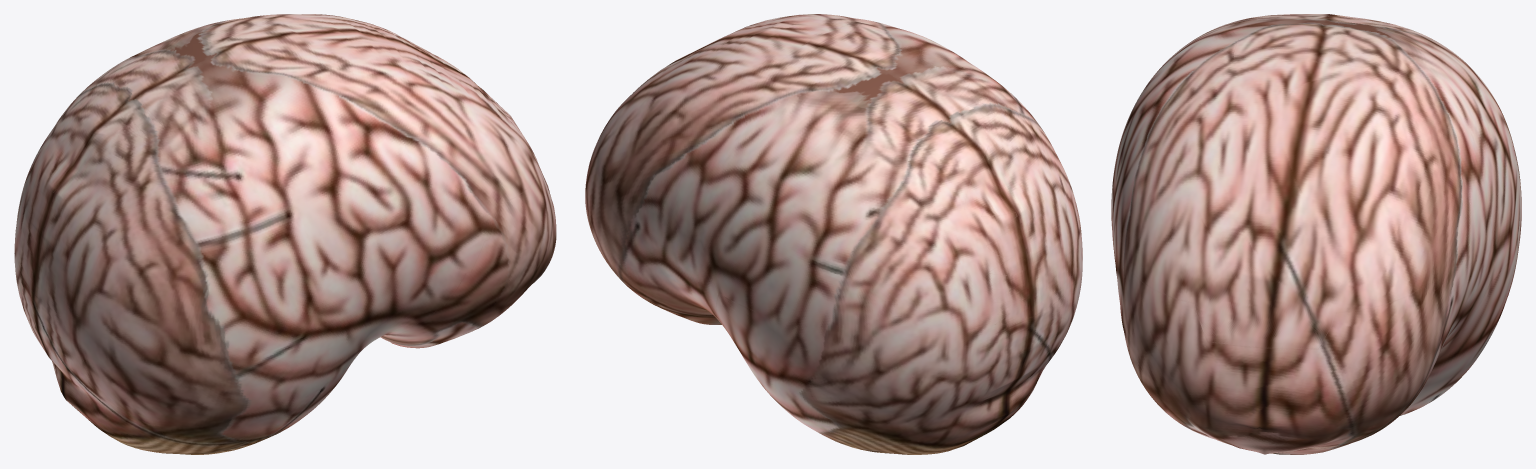
Rendered from otak.glb.
3 renders of one model, left to right at view 1: azimuth 30°, elevation 25°; view 2: azimuth 150°, elevation 25°; view 3: azimuth 270°, elevation 25°, orthographic. The views are drawn at different scales.
Parts seen in each view (by area): view 1: mesh_id52; view 2: mesh_id52; view 3: mesh_id52.
Boxes of the visible parts, <box> form: mesh_id52: <box>14,14,556,454</box>; mesh_id52: <box>585,14,1082,454</box>; mesh_id52: <box>1111,14,1521,454</box>.
Bounding box in the file's own units: 0.5244 × 0.4081 × 0.3638.
1 material, 1 textured.
